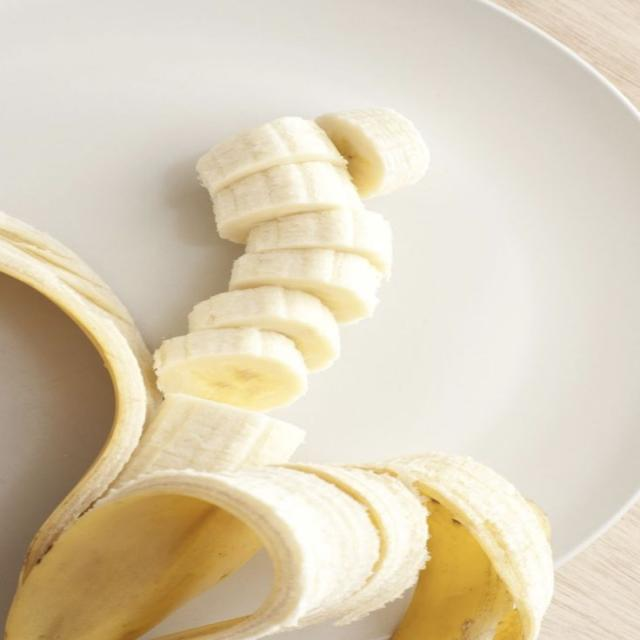banana slice: (6, 454, 553, 639), (6, 468, 379, 639), (0, 212, 159, 580), (368, 454, 553, 639), (288, 464, 427, 624), (114, 394, 304, 487), (394, 501, 513, 639), (189, 287, 339, 371), (154, 328, 306, 410), (213, 162, 361, 243), (197, 117, 346, 194), (230, 249, 380, 323), (316, 108, 429, 198), (247, 210, 392, 274)
